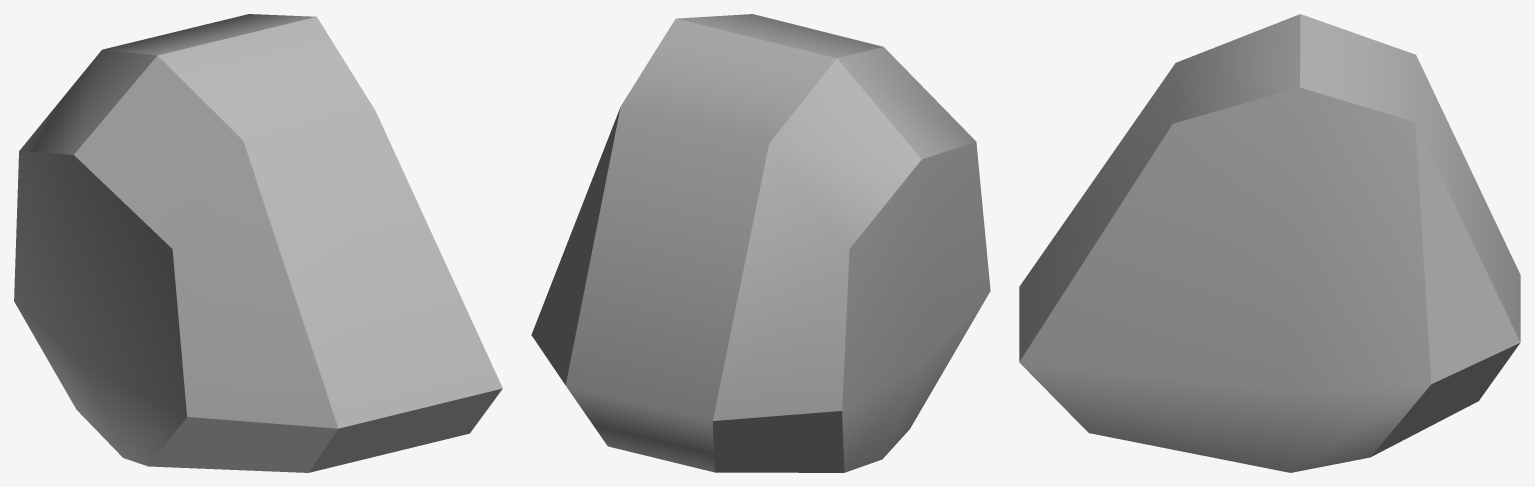
Rendered from Ground Stone 5.fbx.
3 renders of one model, left to right at view 1: azimuth 30°, elevation 25°; view 2: azimuth 150°, elevation 25°; view 3: azimuth 270°, elevation 25°, orthographic. The views are drawn at different scales.
Visible parts, largest first — view 1: Ground_Stone_5; view 2: Ground_Stone_5; view 3: Ground_Stone_5.
Part boxes in pixels (bbox=[...]): Ground_Stone_5: bbox=[14, 14, 502, 472]; Ground_Stone_5: bbox=[531, 14, 990, 472]; Ground_Stone_5: bbox=[1019, 14, 1520, 472].
Size of the model in its own units: 1.11 by 1.27 by 1.57.
